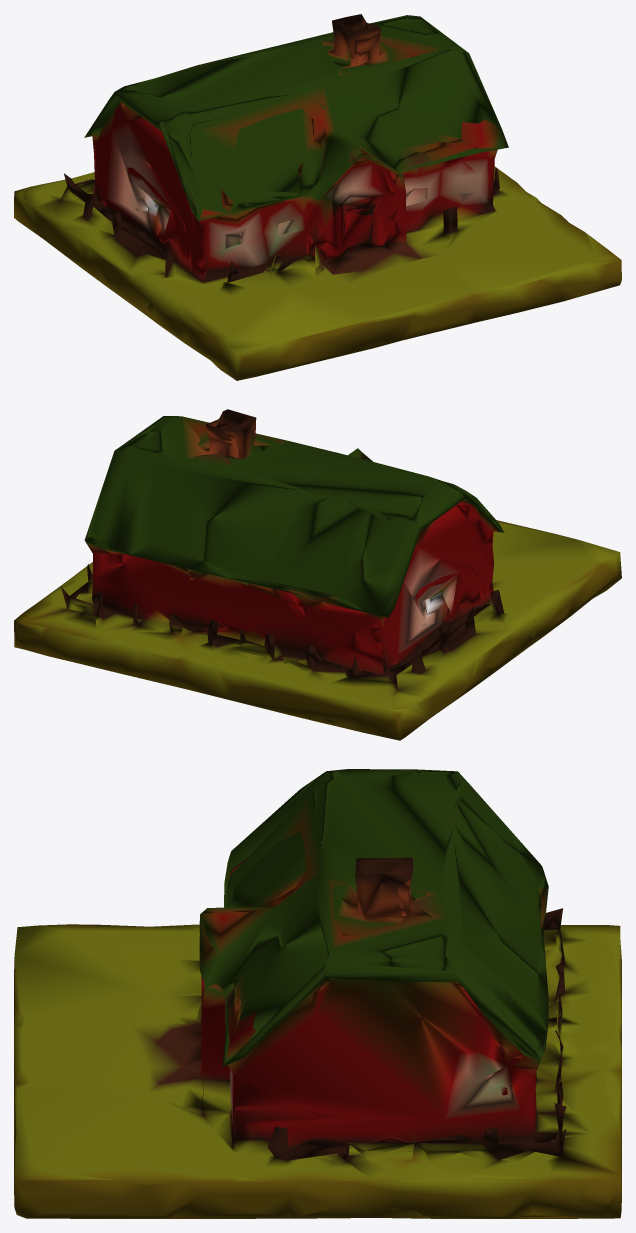
File: gen3d-farm-lod0.glb
The picture shows the model from 3 angles, top to bottom: view 1: azimuth 30°, elevation 25°; view 2: azimuth 150°, elevation 25°; view 3: azimuth 270°, elevation 25°; orthographic projection. The views are drawn at different scales.
Visible parts, largest first — view 1: part_0; view 2: part_0; view 3: part_0.
Boxes of the visible parts, box(x1,y1,x2,y2) form: part_0: box(14, 14, 621, 380); part_0: box(14, 409, 621, 740); part_0: box(14, 769, 621, 1218).
Size of the model in its own units: 2.06 by 1 by 2.06.
